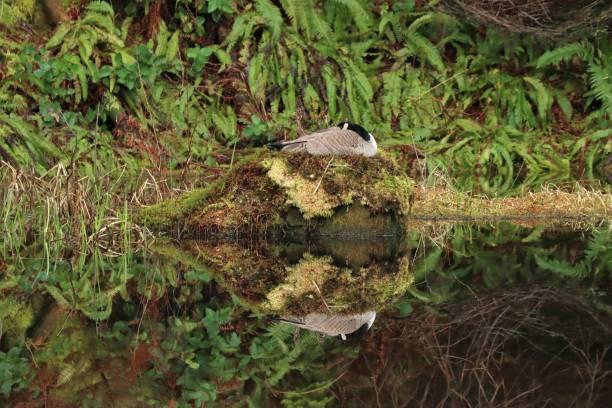Canadian-Goose: (264, 123, 379, 158)
